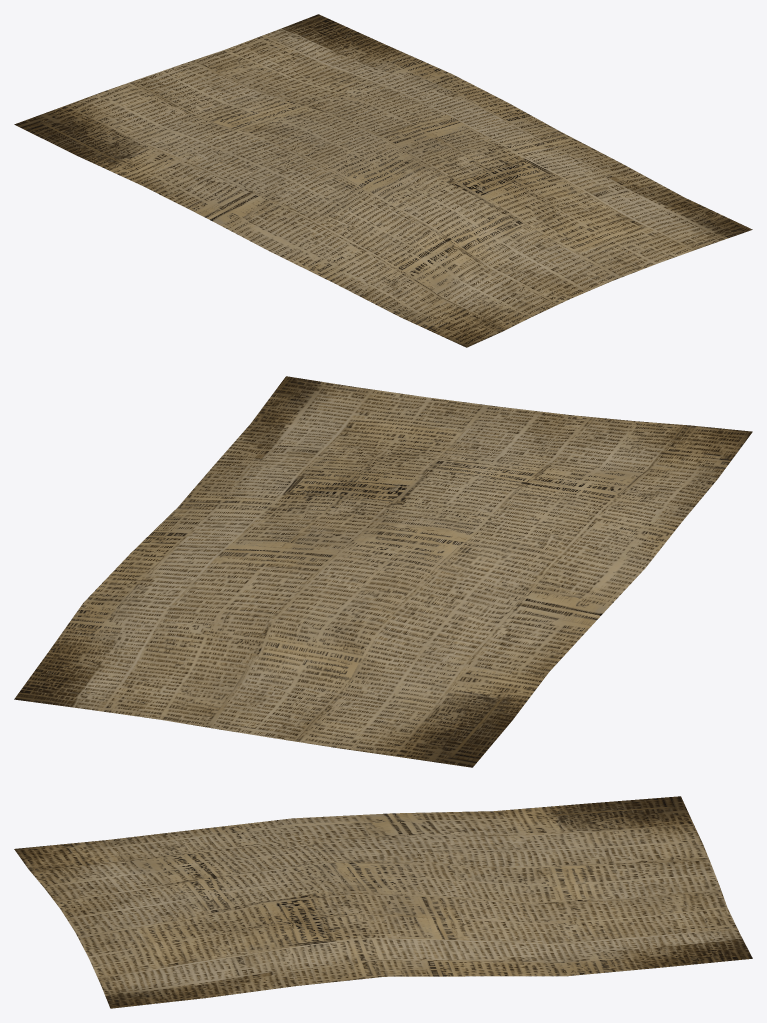
The model's file is papel.fbx.
3 renders of one model, top to bottom at view 1: azimuth 30°, elevation 25°; view 2: azimuth 150°, elevation 25°; view 3: azimuth 270°, elevation 25°, orthographic. The views are drawn at different scales.
Parts seen in each view (by area): view 1: Plane; view 2: Plane; view 3: Plane.
Boxes of the visible parts, <box> form: Plane: <box>14,14,752,347</box>; Plane: <box>14,376,752,767</box>; Plane: <box>14,796,752,1008</box>.
Size of the model in its own units: 32.56 by 1.51 by 47.86.
